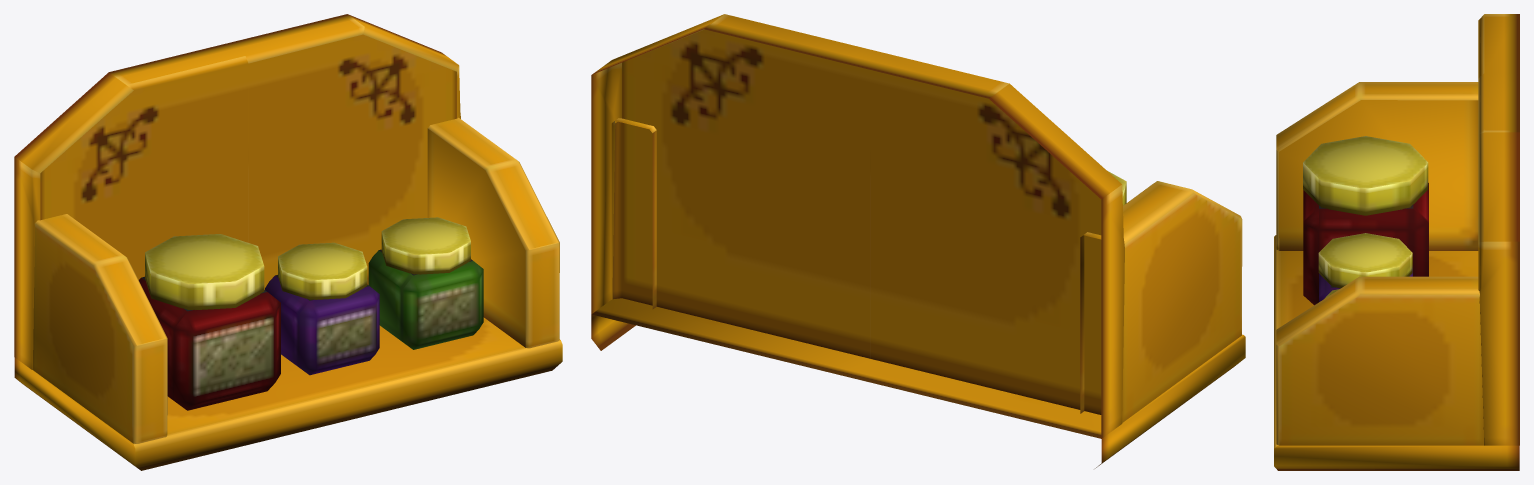
File: rmk_cnt_shelf_wall.dae
3 views of the same model, side by side, from view 1: azimuth 30°, elevation 25°; view 2: azimuth 150°, elevation 25°; view 3: azimuth 270°, elevation 25° (orthographic). The views are drawn at different scales.
Parts seen in each view (by area): view 1: bs_j_0_0; view 2: bs_j_0_0; view 3: bs_j_0_0.
Part boxes in pixels (x1=…): bs_j_0_0: x1=14, y1=14, x2=562, y2=470; bs_j_0_0: x1=591, y1=14, x2=1245, y2=468; bs_j_0_0: x1=1274, y1=14, x2=1519, y2=470.
Bounding box in the file's own units: 24.52 × 15.94 × 12.01.
1 material, 1 textured.
